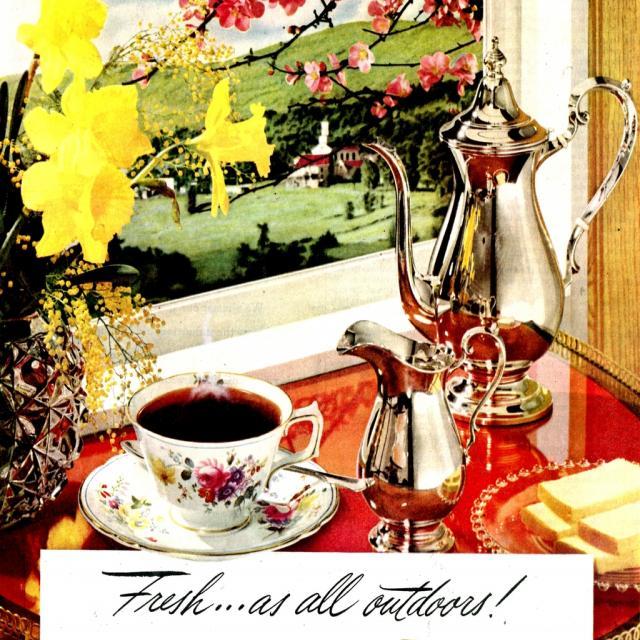Tea: (137, 386, 277, 441)
